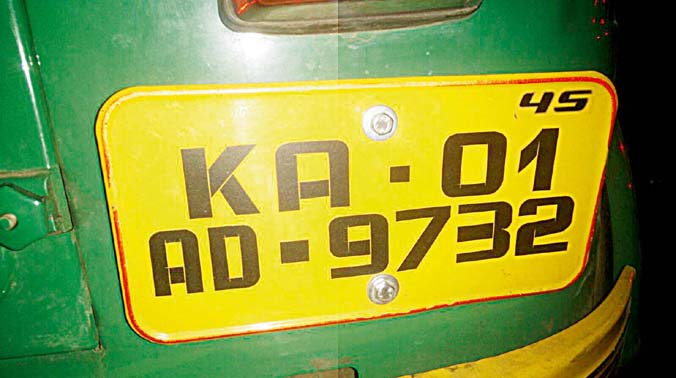doublelinenumberplate: (94, 74, 617, 346)
